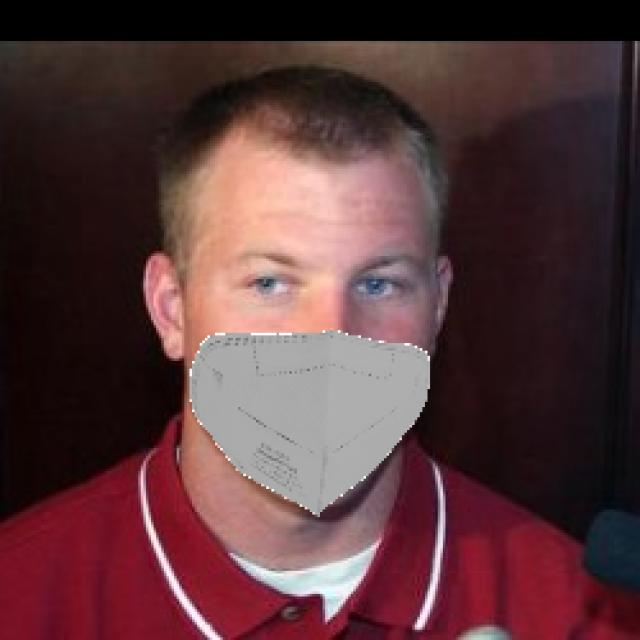mask: (188, 313, 438, 521)
